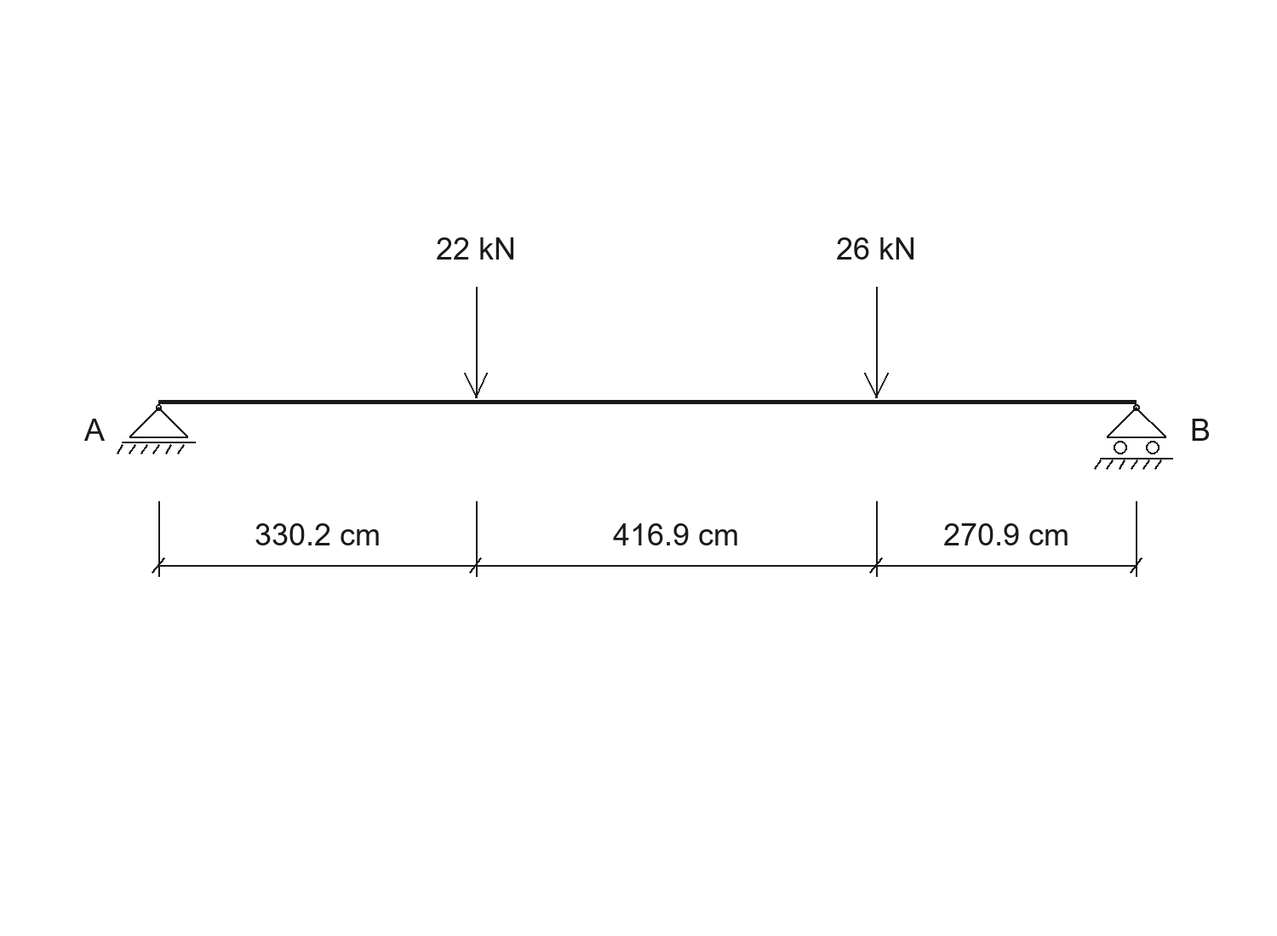pin_support: (117, 404, 196, 454)
point_load: (864, 287, 889, 398), (464, 287, 488, 398)
roller_support: (1094, 404, 1173, 470)
